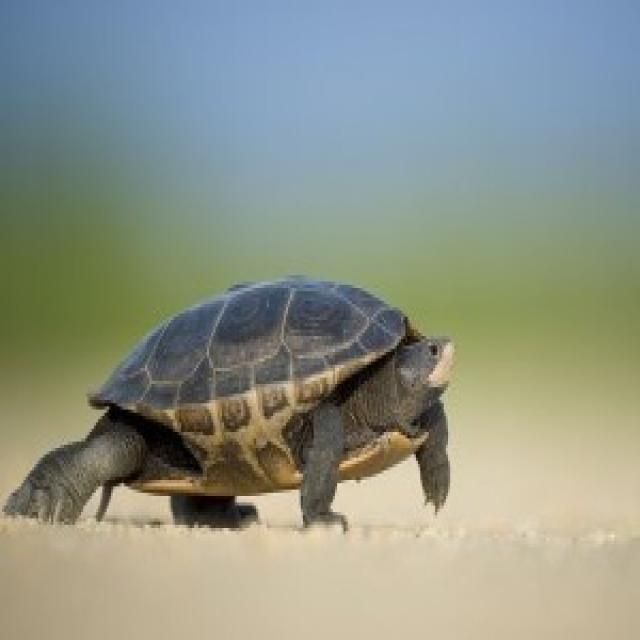Sea turtle: (0, 246, 493, 557)
